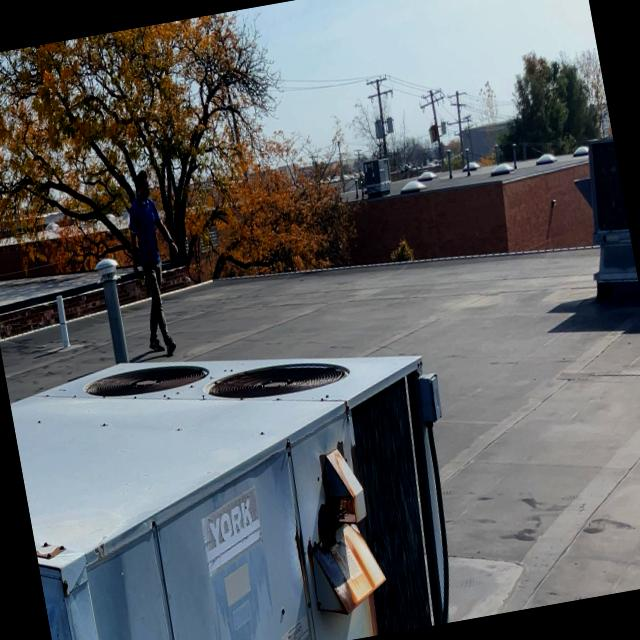GRAVITY-VENT: (87, 238, 139, 373)
RTU: (3, 293, 483, 640), (563, 134, 640, 300)
